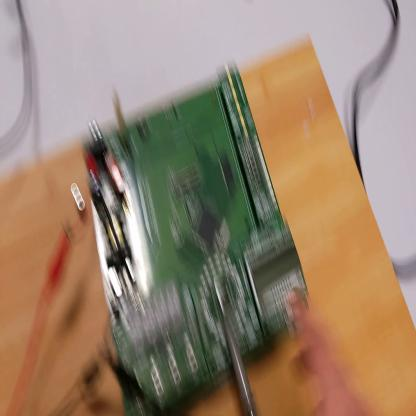hand: (288, 291, 368, 414)
low voltage board: (67, 51, 307, 415)
oscilloscope probe tip: (217, 294, 260, 415)
working area: (2, 37, 416, 415)
